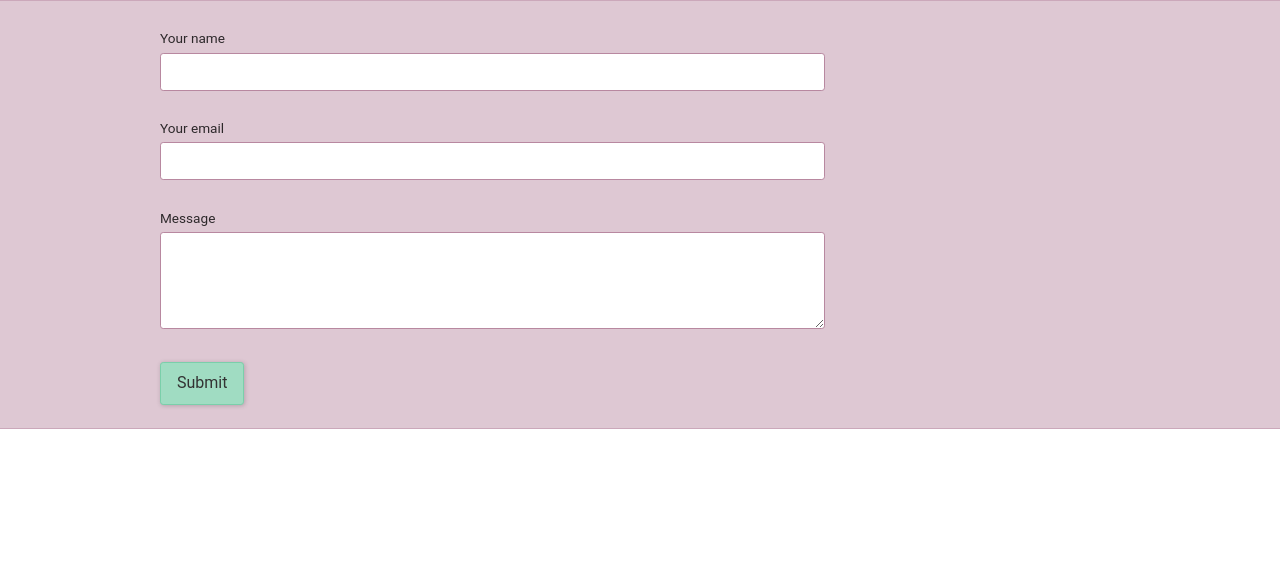
Test: <ContactForm> › rejects incorrect emails
Step 1. Type "higgeldy-piggeldy" into the field labelled "Your email" → (492, 161), box [160, 142, 825, 180]
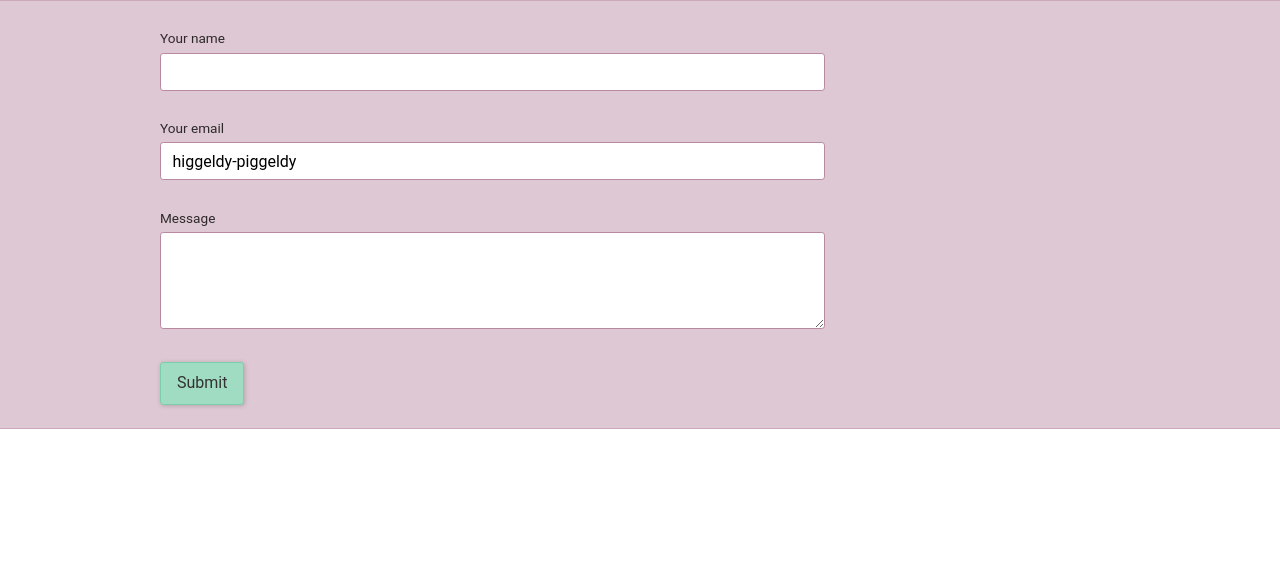
Step 2. Click the button "Submit" → click(202, 383), box [160, 362, 244, 405]
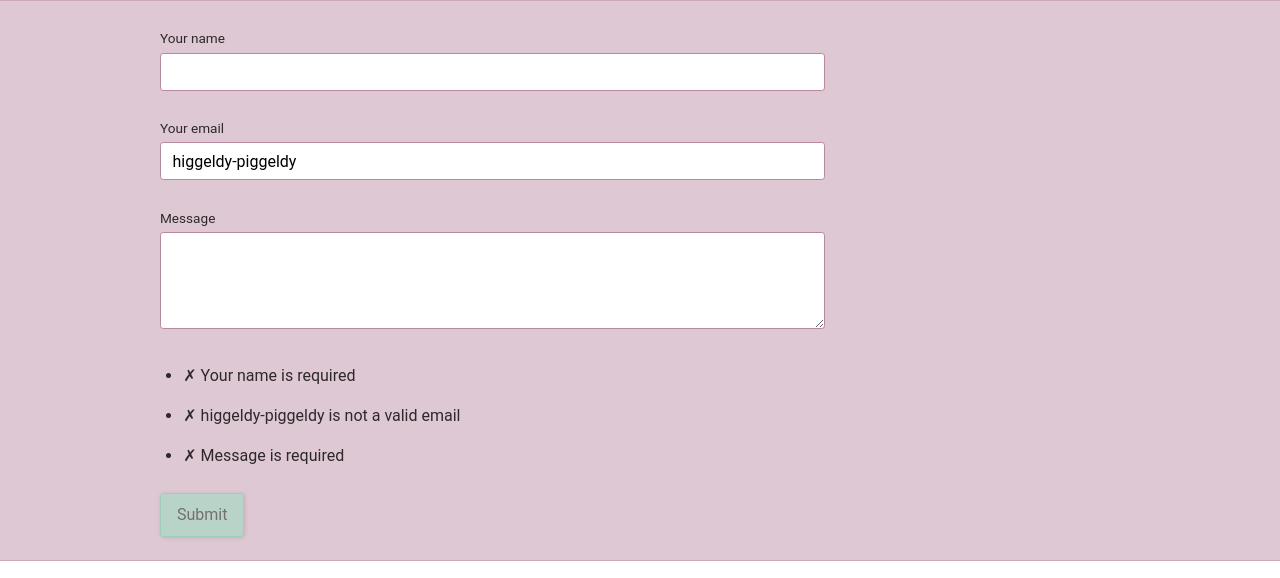
Expected: the button "Submit" is disabled, [160, 493, 244, 537]
Expected: the list item "higgeldy-piggeldy is not a valid email" is shown, [201, 406, 460, 425]
